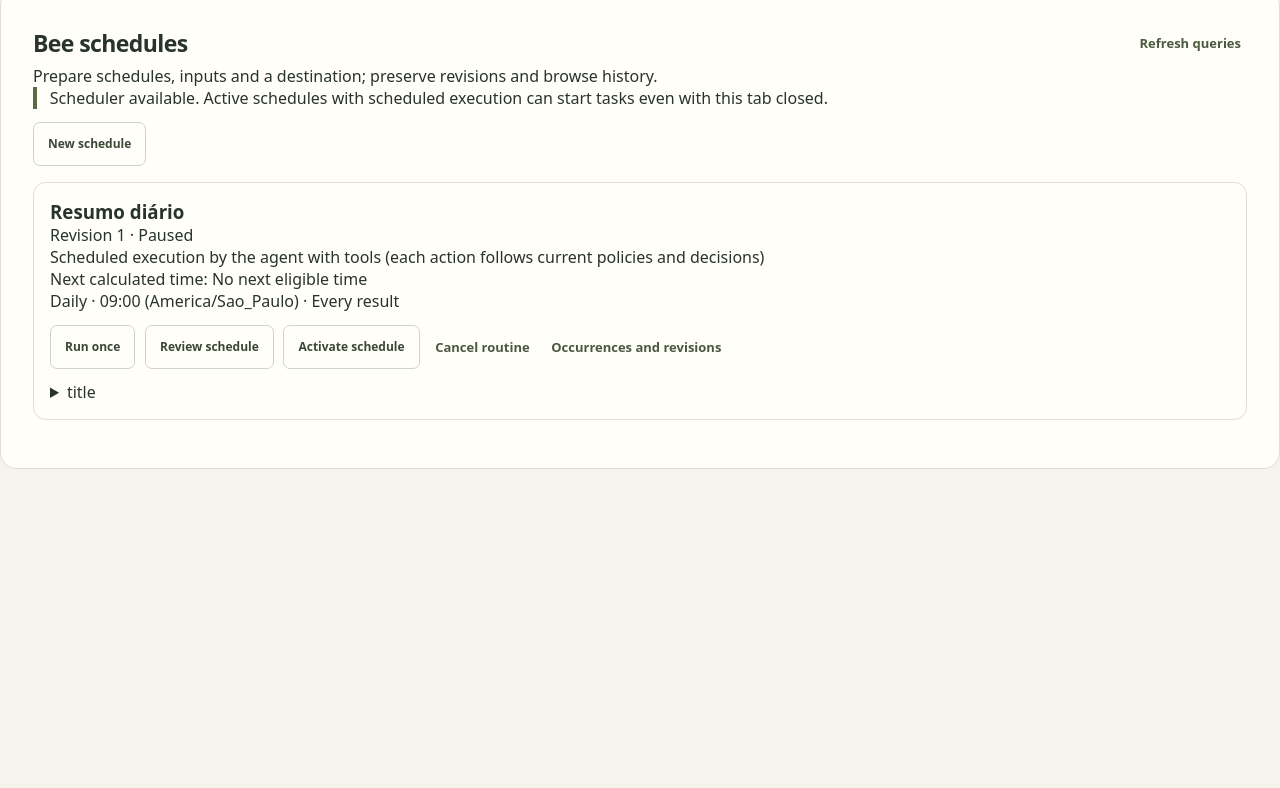
Test: agent routine availability and consent › offers manual agent execution without a text resource in en
This screenshot has width=1280, height=788.
Click the button "Run once": click(93, 347) [50, 325, 135, 369]
(page scrolled)
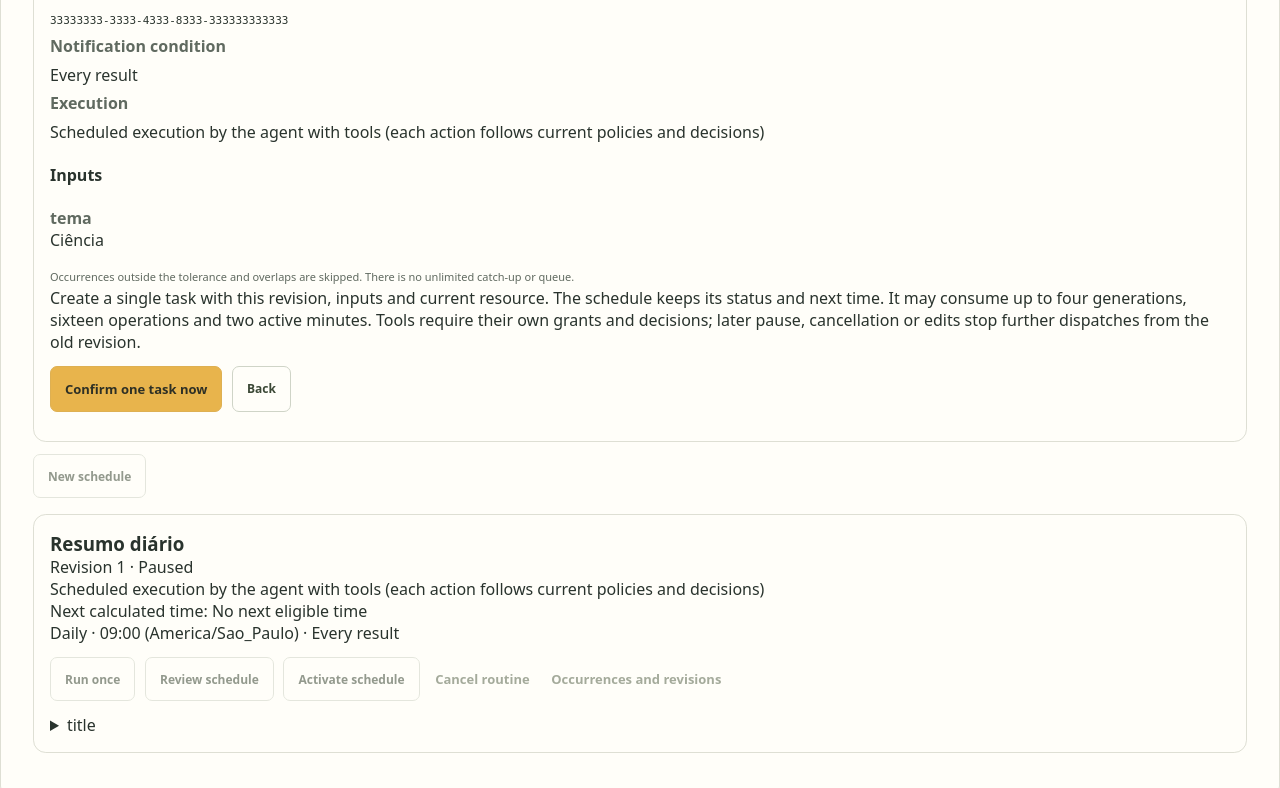
Expected: the button "Confirm one task now" is enabled, [50, 366, 222, 412]
